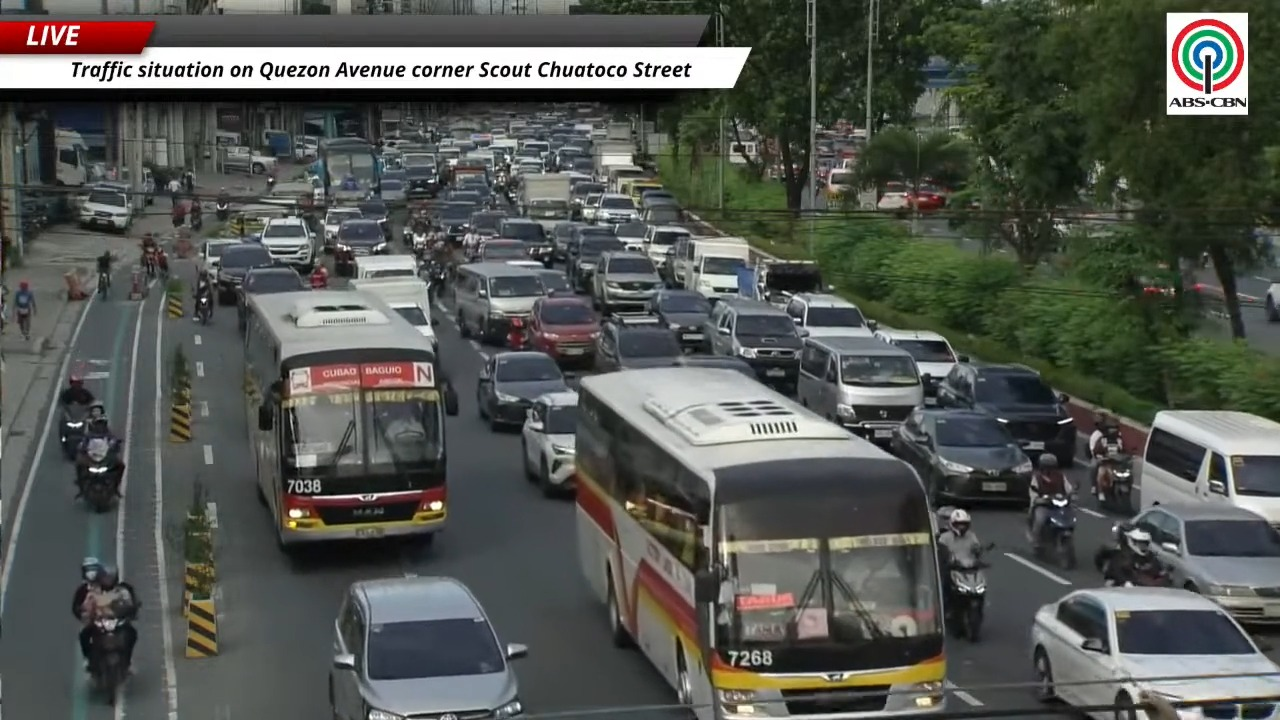bus: (575, 368, 945, 719), (244, 290, 446, 549), (313, 137, 381, 200)
car: (1030, 587, 1279, 719), (328, 576, 527, 719), (1121, 503, 1279, 624), (938, 363, 1076, 466), (891, 409, 1032, 505), (703, 299, 802, 394), (476, 351, 568, 429), (874, 328, 969, 401), (522, 392, 577, 496), (595, 314, 683, 371), (529, 294, 599, 361), (236, 265, 309, 329), (591, 251, 662, 313), (785, 293, 875, 336), (647, 289, 711, 349), (217, 242, 274, 304), (567, 233, 624, 291), (333, 217, 387, 276), (259, 217, 316, 271), (497, 217, 553, 266), (78, 187, 132, 232), (674, 355, 757, 381), (643, 225, 691, 268), (323, 207, 362, 253), (198, 238, 240, 278), (434, 202, 478, 240), (221, 146, 276, 174), (464, 210, 507, 243), (594, 193, 639, 224), (570, 181, 604, 220), (357, 200, 391, 238), (877, 181, 912, 215), (551, 221, 581, 260), (479, 239, 530, 261), (404, 166, 438, 198), (614, 221, 648, 251), (825, 169, 857, 200), (911, 184, 946, 212), (537, 268, 572, 294), (379, 177, 407, 206), (580, 192, 603, 223), (445, 189, 483, 206), (1264, 282, 1279, 321), (506, 259, 545, 270)
motorcycle: (946, 559, 987, 642), (89, 617, 128, 704), (1032, 493, 1076, 569), (80, 442, 118, 512), (1097, 444, 1132, 512), (1094, 523, 1131, 585), (60, 404, 87, 460), (507, 317, 528, 351), (410, 232, 429, 259), (195, 294, 212, 324), (143, 246, 158, 278), (97, 271, 110, 299), (402, 224, 414, 246), (215, 203, 229, 221), (189, 210, 201, 230)
truck: (519, 173, 570, 230), (54, 128, 88, 186), (593, 141, 633, 176), (605, 123, 630, 142)
